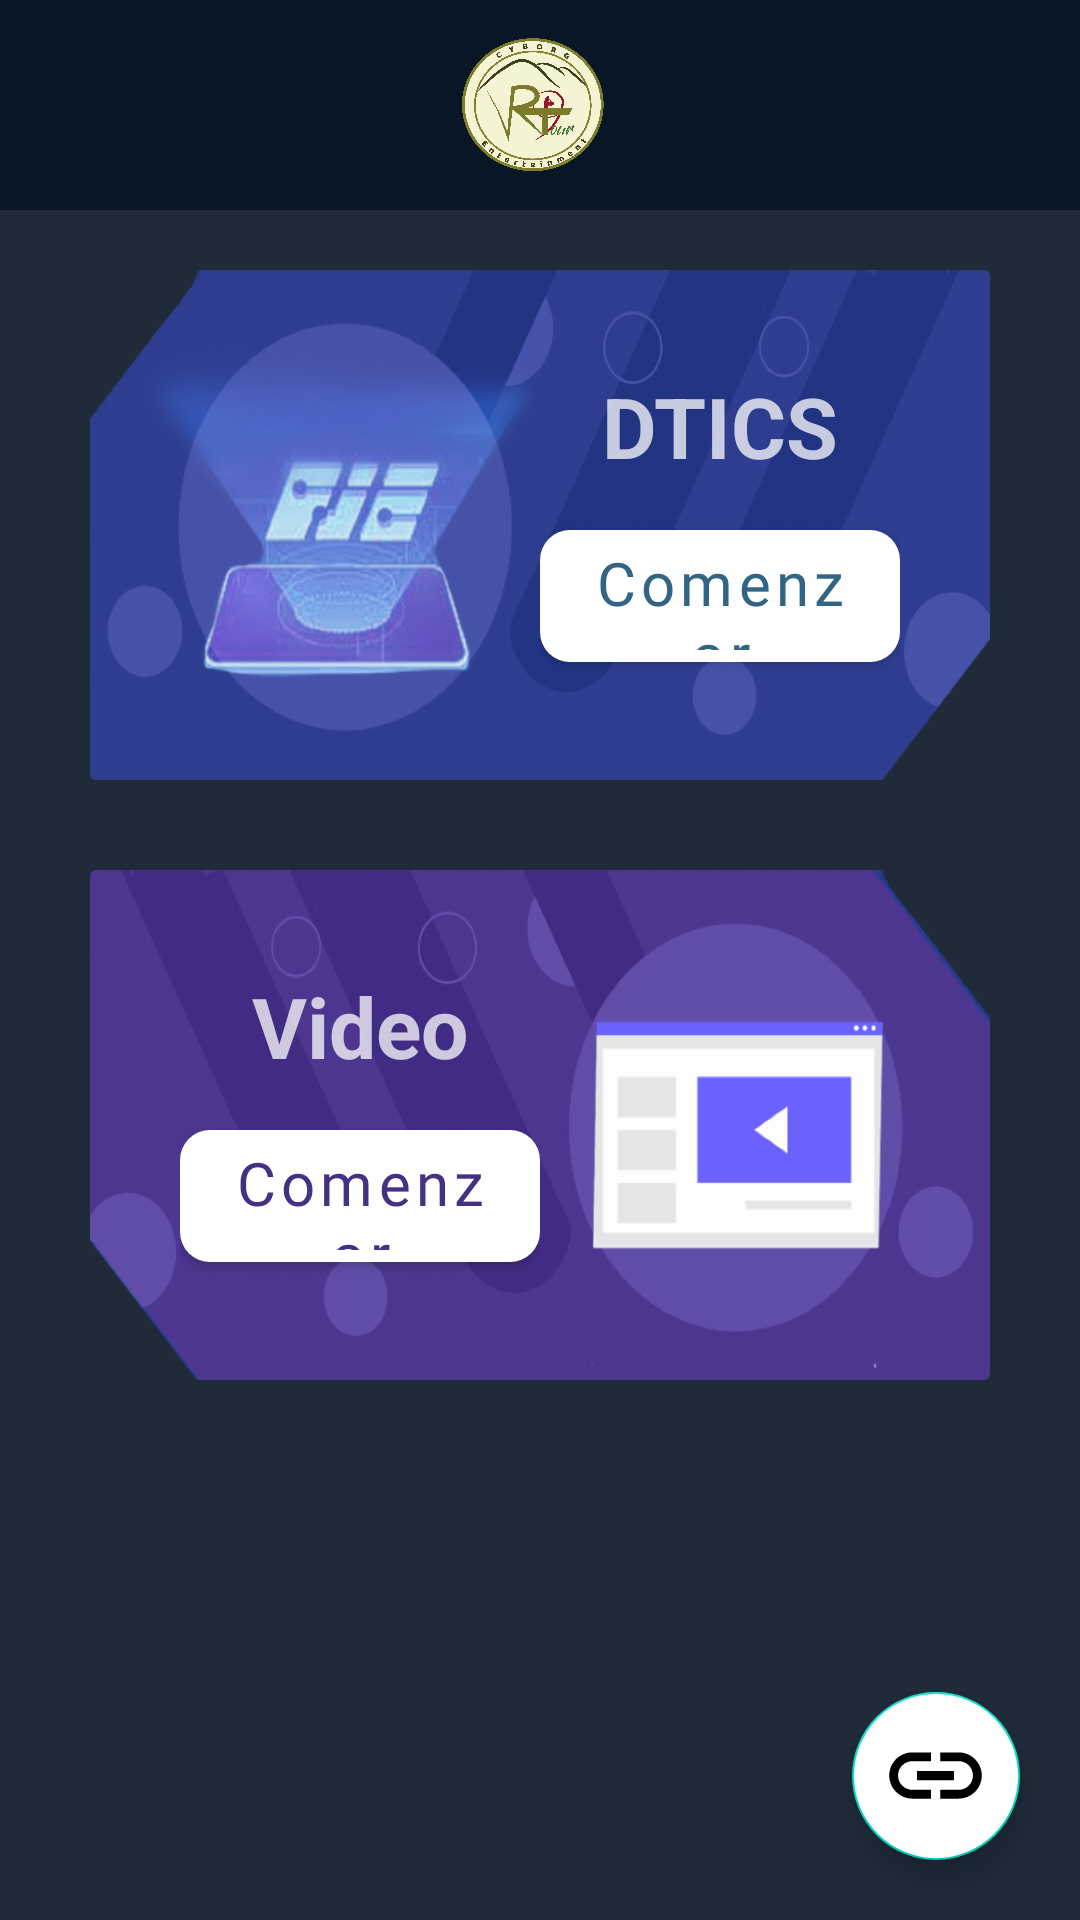

Icon bounding boxes for this 1080px x 1920px phone screenshot, format (x1, y1, x2, y2):
link: (852, 1692, 1020, 1860)
